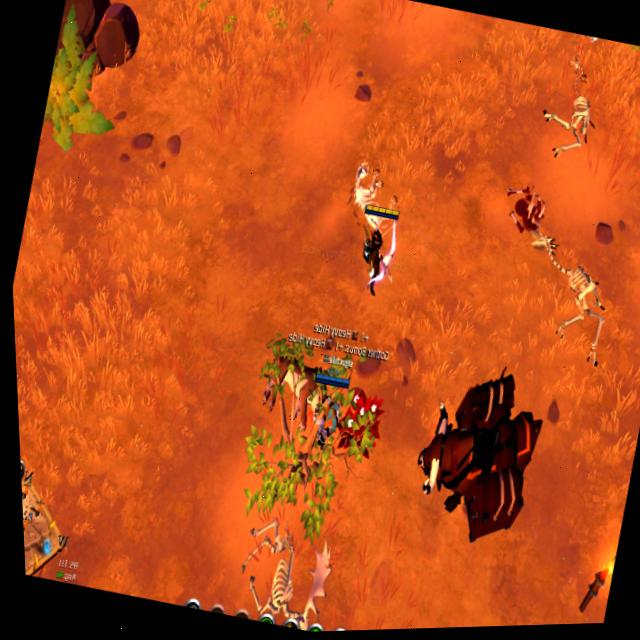hide: (327, 378, 395, 468)
mob: (252, 343, 337, 438)
red: (296, 368, 355, 463), (349, 198, 405, 287)
